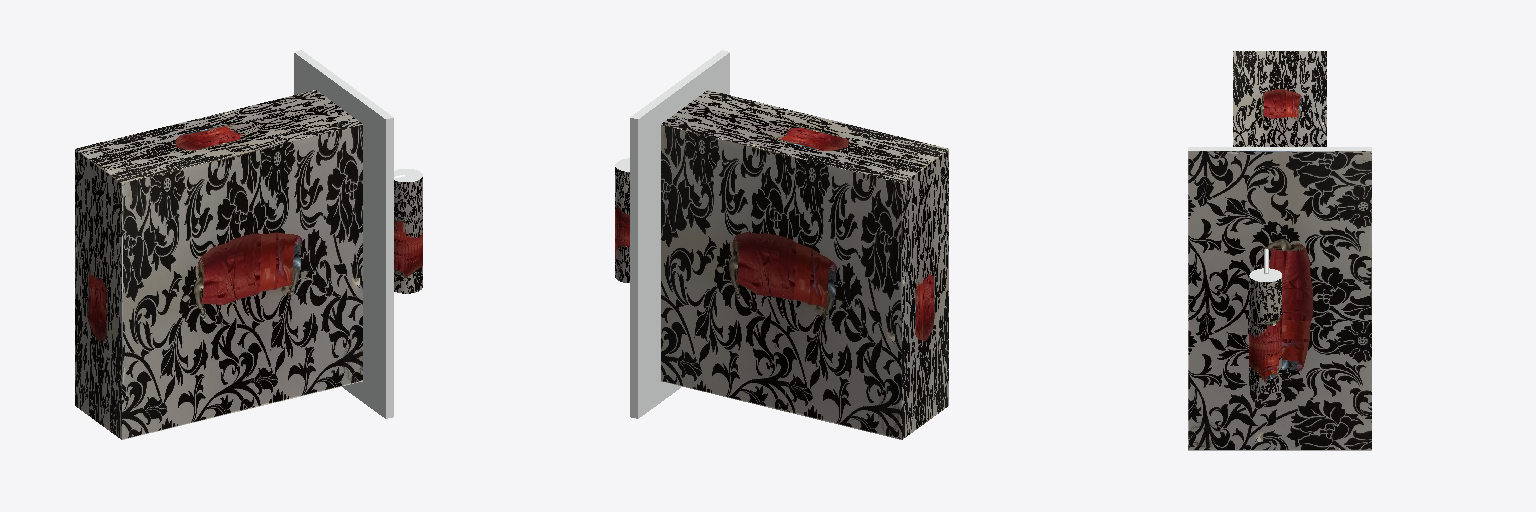
3 renders of one model, left to right at view 1: azimuth 30°, elevation 25°; view 2: azimuth 150°, elevation 25°; view 3: azimuth 270°, elevation 25°, orthographic.
Bounding box in the file's own units: 0.3854 × 0.35 × 0.195.
3 materials, 2 textured.